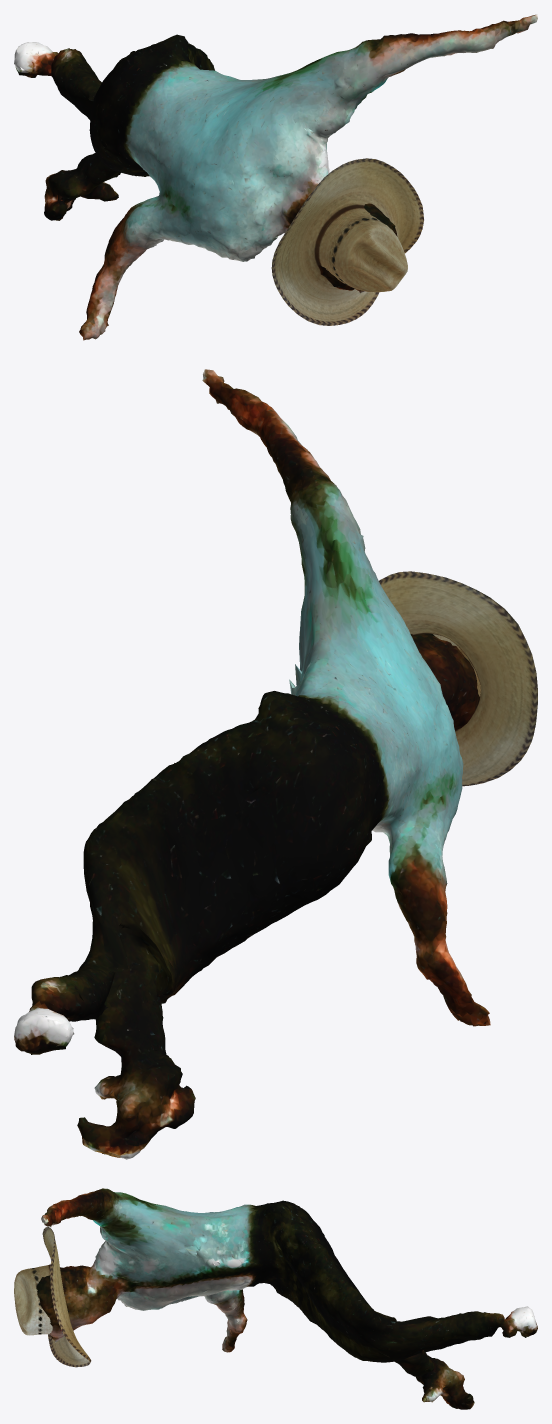
The model's file is lalaland_hat.gltf.
3 views of the same model, one above another, from view 1: azimuth 30°, elevation 25°; view 2: azimuth 150°, elevation 25°; view 3: azimuth 270°, elevation 25° (orthographic). The views are drawn at different scales.
Parts seen in each view (by area): view 1: pose0, Material_001-material; view 2: pose0, Material_001-material; view 3: pose0, Material_001-material.
Part boxes in pixels (x1,y1,x2,y2): pose0: (14,14,537,340); Material_001-material: (271,158,423,325); pose0: (14,369,490,1159); Material_001-material: (379,571,537,786); pose0: (36,1188,537,1409); Material_001-material: (14,1227,91,1367).
Size of the model in its own units: 0.7135 by 0.7109 by 1.25.
2 materials, 2 textured.
